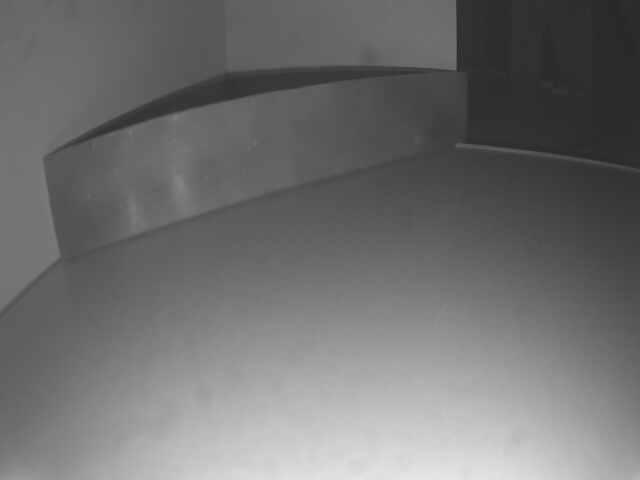Green: (41, 73, 466, 263)
